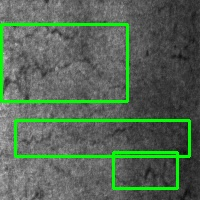crazing: (1, 24, 127, 101), (16, 120, 189, 156), (113, 152, 177, 188)
